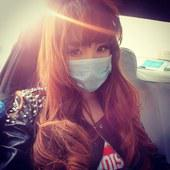OK: (63, 31, 114, 94)
